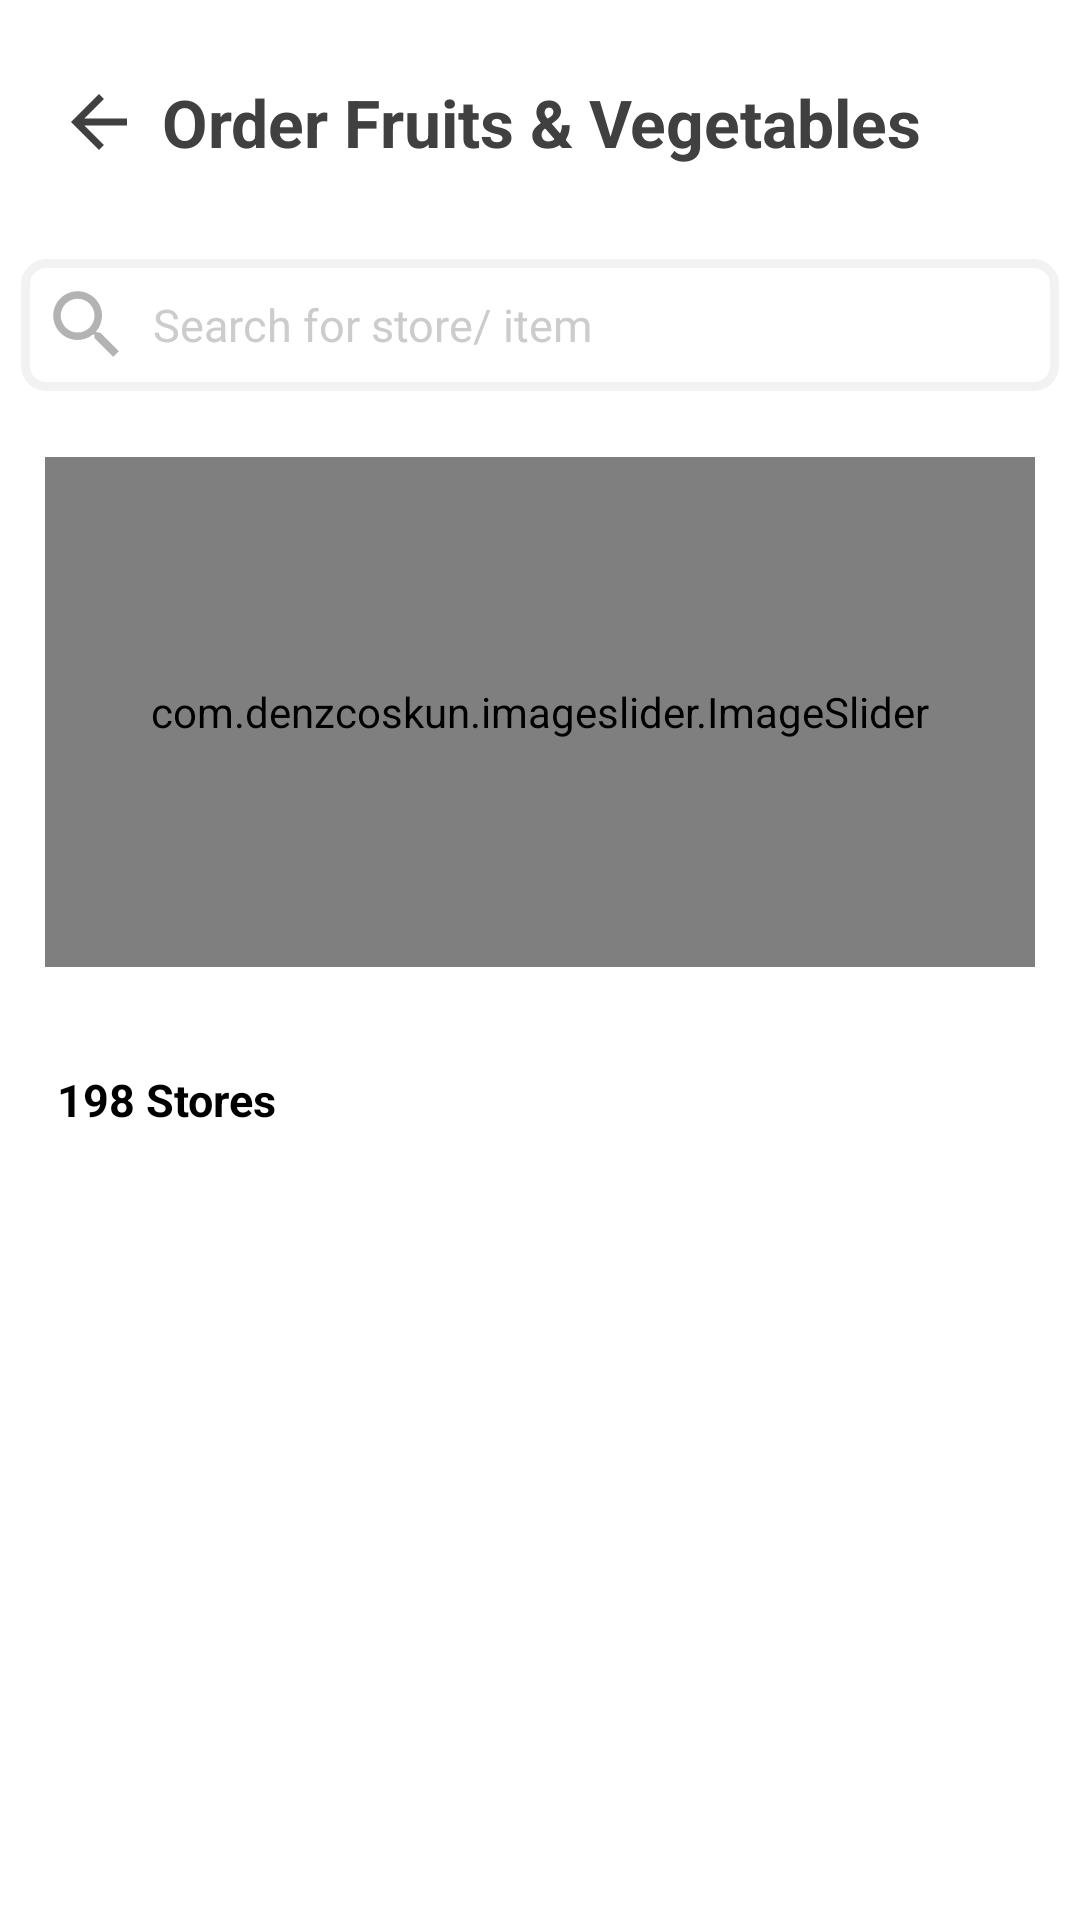

Icon bounding boxes for this 1080 x 1920 phone screenshot, format (x1, y1, x2, y2):
arrow back: (71, 94, 127, 150)
